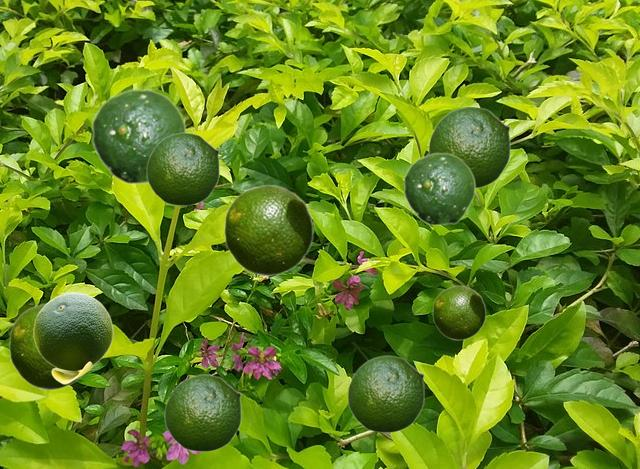calamansi: (91, 88, 186, 184), (223, 184, 313, 275), (33, 292, 112, 383), (8, 302, 86, 389), (428, 106, 510, 188), (164, 374, 241, 451), (347, 355, 424, 432), (146, 132, 219, 205), (403, 152, 475, 225), (432, 285, 485, 339)
